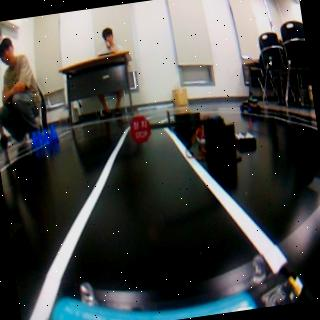stop: (128, 114, 152, 146)
